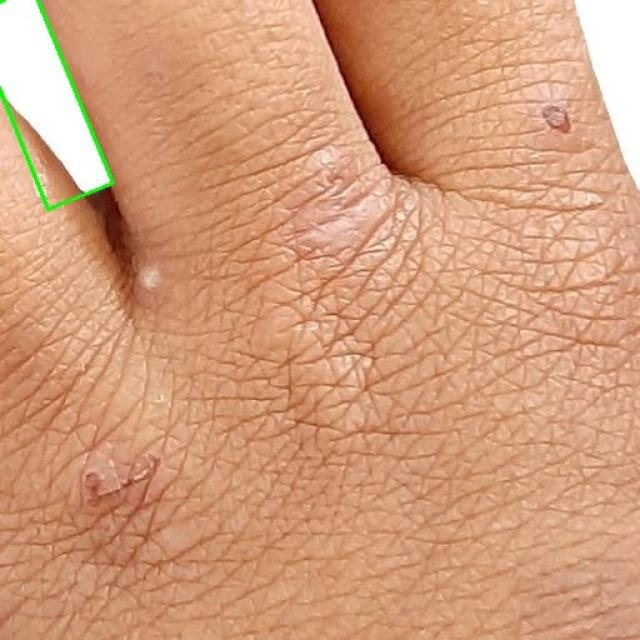Scabies: (0, 0, 114, 210)
